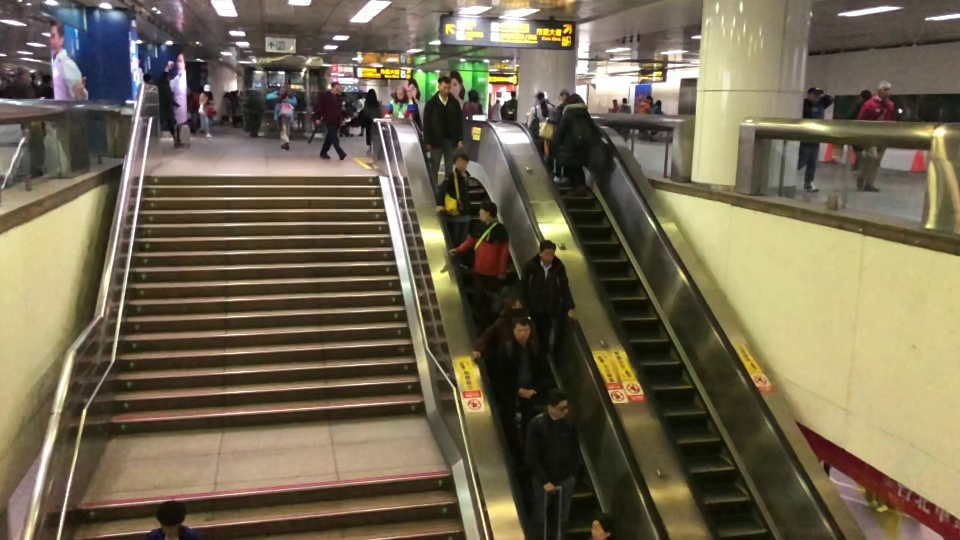person_head: (154, 500, 186, 532), (588, 512, 615, 540), (545, 390, 571, 419), (538, 238, 559, 266), (875, 79, 894, 107), (511, 320, 532, 344), (434, 76, 452, 100), (452, 151, 470, 175), (805, 87, 826, 107), (477, 202, 495, 223), (276, 83, 294, 100), (557, 87, 572, 107), (569, 90, 586, 107), (391, 86, 407, 104), (856, 88, 871, 104), (503, 298, 521, 311), (328, 78, 342, 94), (530, 92, 546, 105), (149, 57, 163, 71), (365, 88, 378, 102), (620, 94, 633, 108), (202, 82, 214, 96), (653, 97, 664, 110), (641, 94, 653, 105), (609, 98, 620, 108), (507, 89, 516, 101)
person_vbox: (441, 202, 515, 361), (492, 320, 574, 438), (517, 238, 582, 379), (523, 389, 578, 529), (420, 77, 469, 217), (853, 79, 899, 198), (788, 84, 835, 194), (429, 151, 494, 228), (557, 88, 599, 198), (474, 298, 526, 380), (306, 79, 351, 163), (140, 57, 179, 148), (543, 87, 571, 182), (838, 88, 873, 164), (145, 498, 192, 540), (269, 82, 297, 150), (355, 87, 384, 152), (526, 91, 555, 154), (190, 81, 220, 140), (386, 86, 417, 126), (632, 93, 654, 139), (617, 92, 636, 143), (645, 96, 667, 140), (497, 88, 521, 121), (603, 94, 623, 117)
